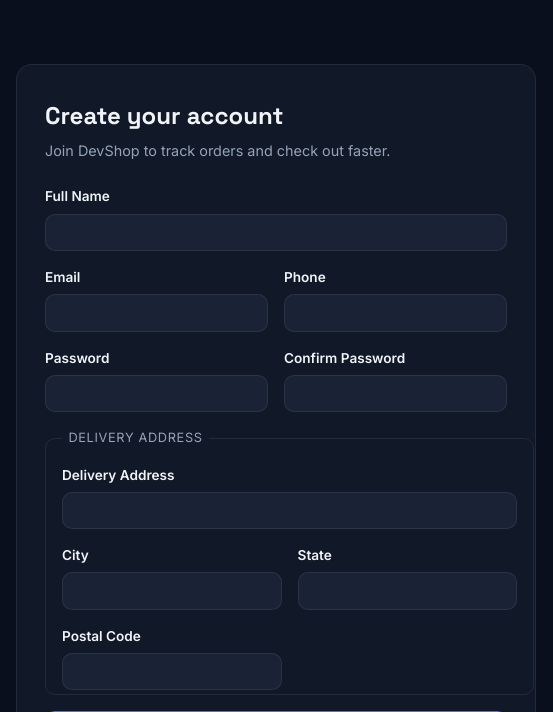
Scenario: Register page › rejects mismatched passwords
The image size is (553, 712).
Type "Jane Doe" into the field labelled "Full Name" at coordinates (276, 232), box [45, 214, 507, 251]
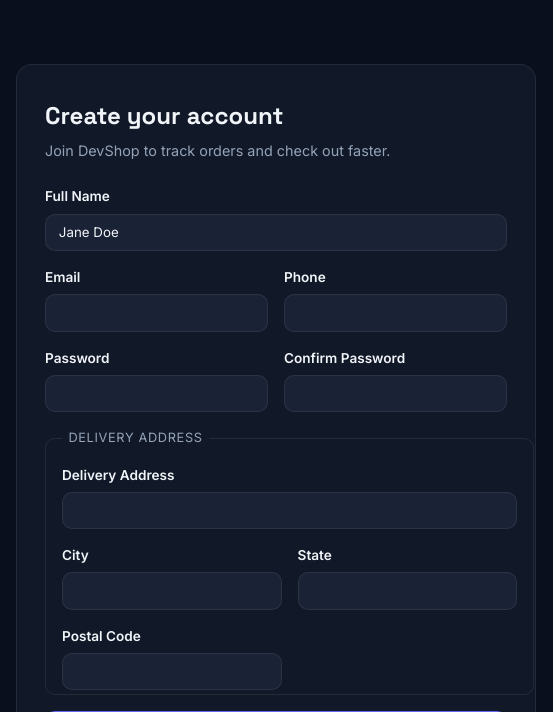
Type "jane@example.com" into the field labelled "Email" at coordinates (156, 313), box [45, 294, 268, 332]
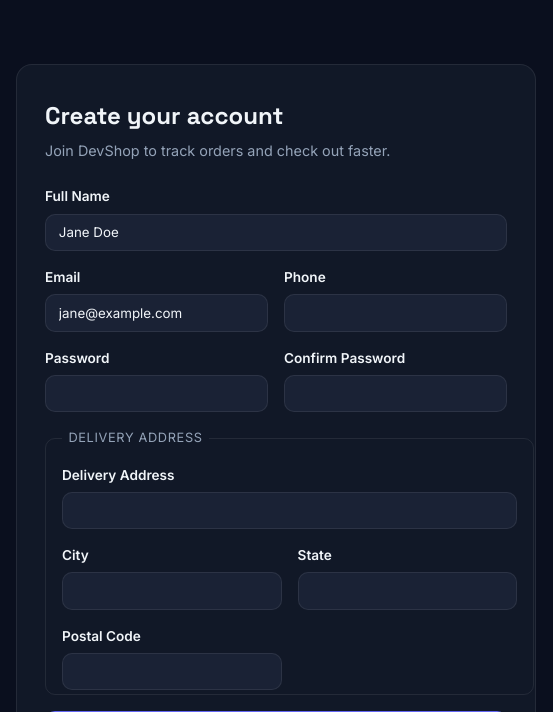
Type "SecurePass123!" into the password field labelled "Password" at coordinates (156, 393), box [45, 375, 268, 412]
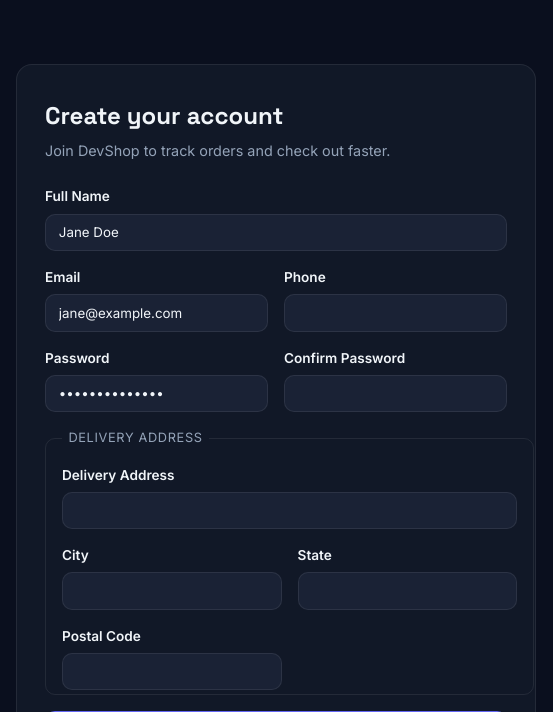
Type "Different123!" into the password field labelled "Confirm Password" at coordinates (396, 393), box [284, 375, 507, 412]
(page scrolled)
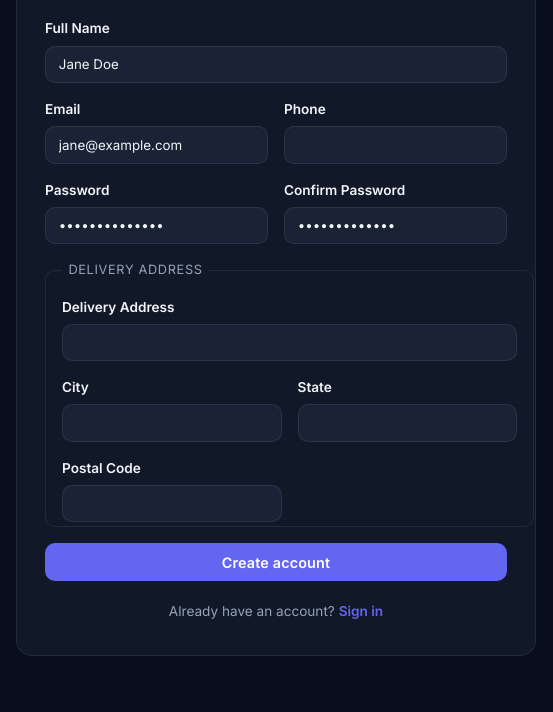
Click the button "Create account" at coordinates (276, 562), box [45, 543, 507, 581]
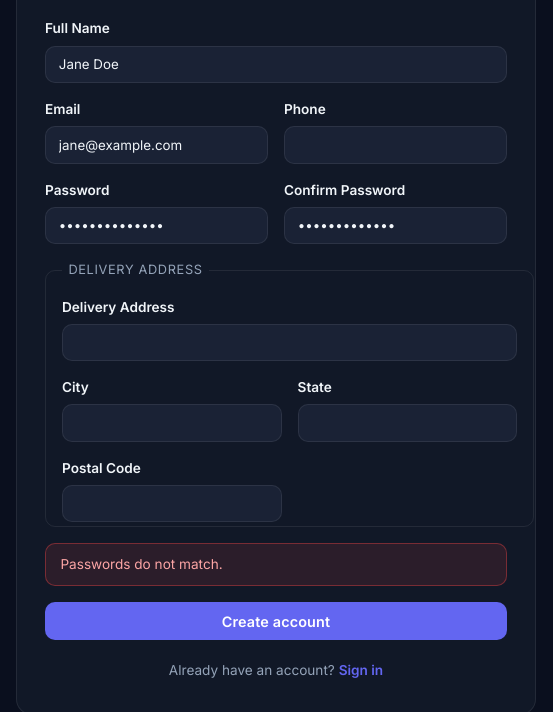
Check: the text "Passwords do not match." is shown, box [45, 543, 507, 586]
